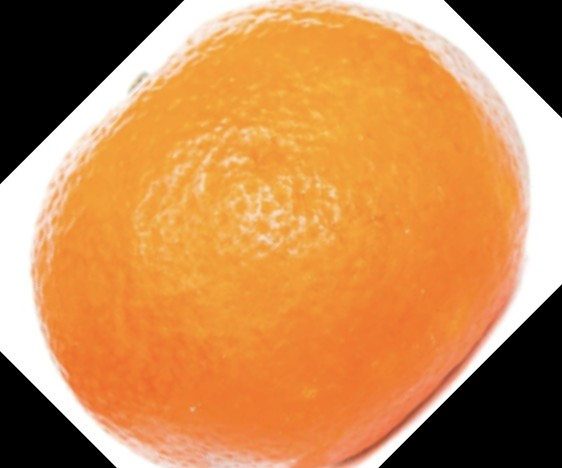fresh_orange: (35, 1, 530, 468)
